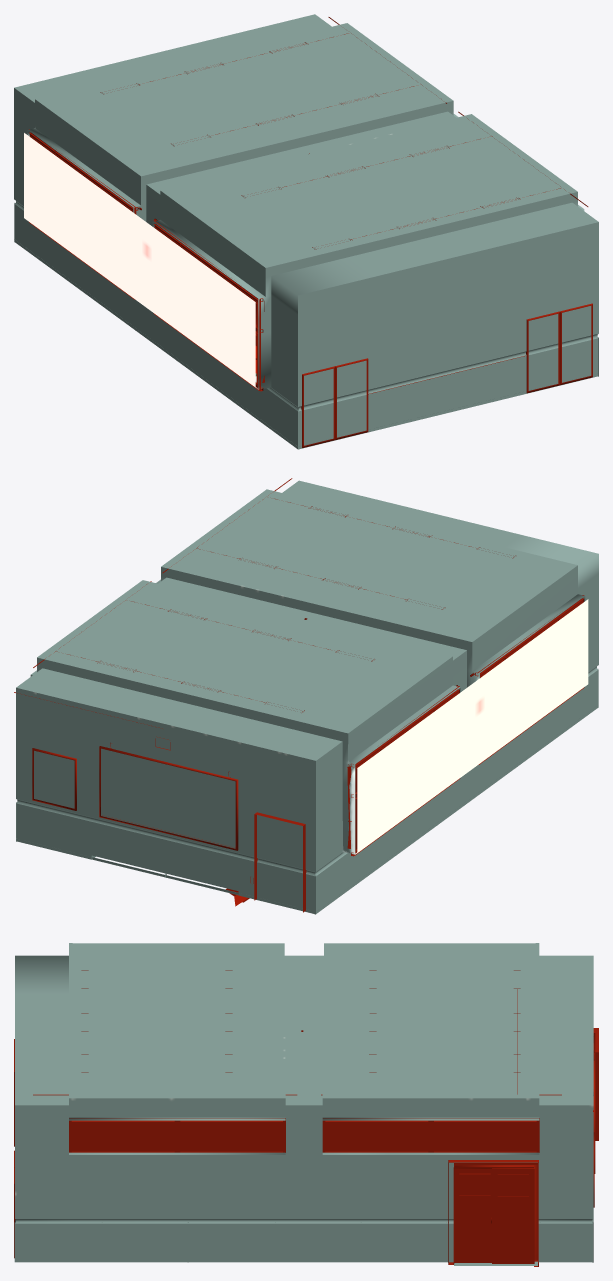
The model's file is classroom.fbx.
3 renders of one model, top to bottom at view 1: azimuth 30°, elevation 25°; view 2: azimuth 150°, elevation 25°; view 3: azimuth 270°, elevation 25°, orthographic. The views are drawn at different scales.
Parts seen in each view (by area): view 1: walls, glow, windows, locker2; view 2: walls, glow, windows, blackboard, shelf.001; view 3: walls, hallWindows, door, shelf.001.
Part boxes in pixels (bbox=[...]): walls: bbox=[14, 14, 598, 449]; glow: bbox=[24, 133, 255, 387]; windows: bbox=[29, 129, 263, 391]; locker2: bbox=[301, 303, 592, 447]; walls: bbox=[16, 480, 598, 914]; glow: bbox=[357, 599, 588, 852]; windows: bbox=[351, 595, 584, 856]; blackboard: bbox=[99, 746, 238, 850]; shelf.001: bbox=[254, 812, 306, 912]; walls: bbox=[15, 943, 593, 1265]; hallWindows: bbox=[69, 1118, 539, 1152]; door: bbox=[448, 1160, 538, 1266]; shelf.001: bbox=[593, 1028, 598, 1140].
Bounding box in the file's own units: 1047 × 636 × 1584.
